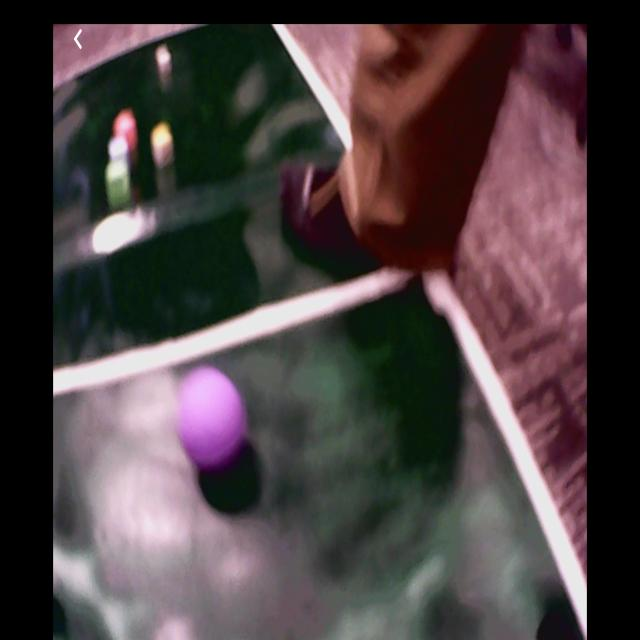ball: (179, 367, 247, 468)
